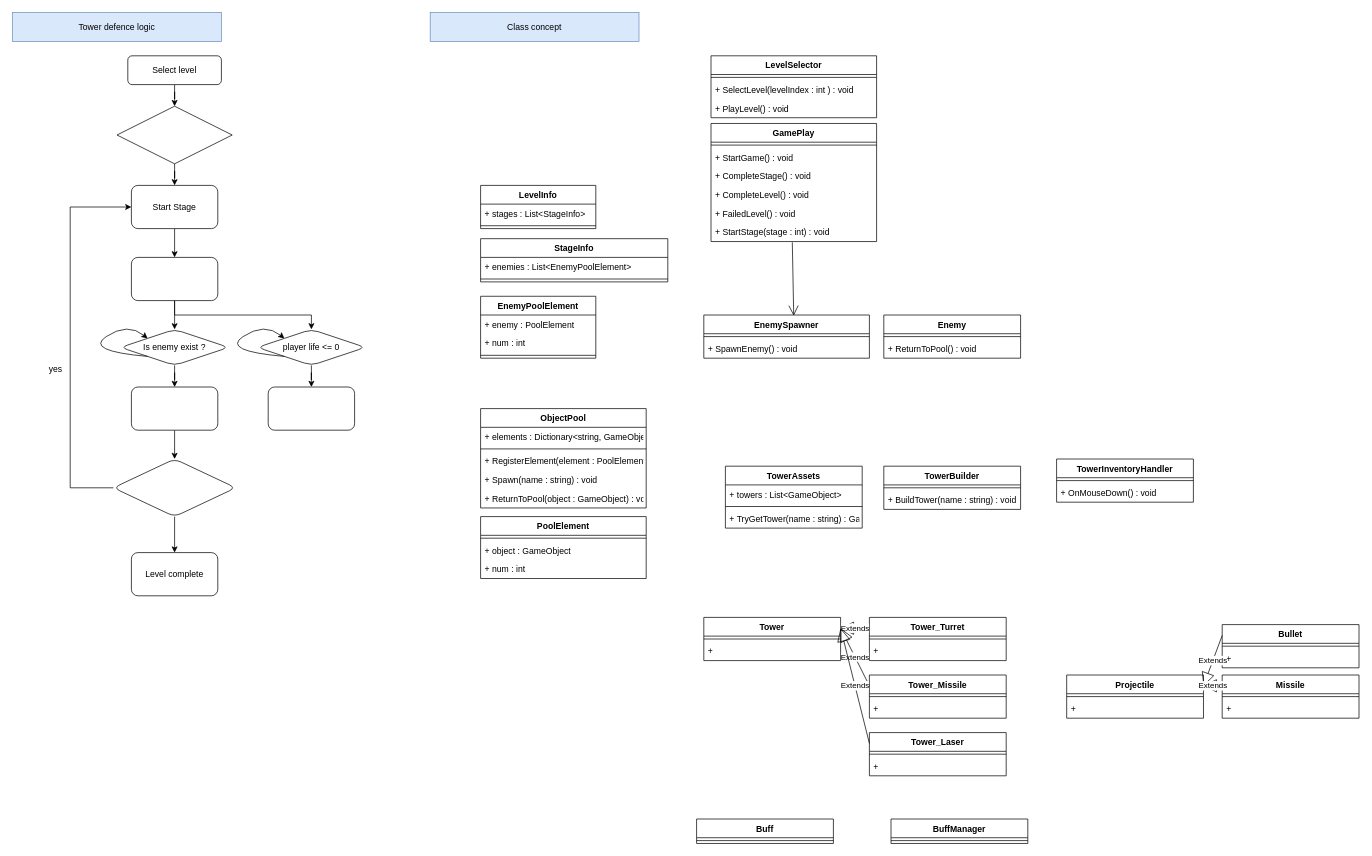
This 1372x856 diagram has some shape labels left out. The shapes that lost their labels are listed below. From the top down, each one's centre as x and y in pixels, then its label:
At point 174,134: "Start Button".
At point 174,279: "Spawn enemies".
At point 174,408: "Stage complete".
At point 311,408: "Level failed".
At point 174,487: "current stage < last stage".
